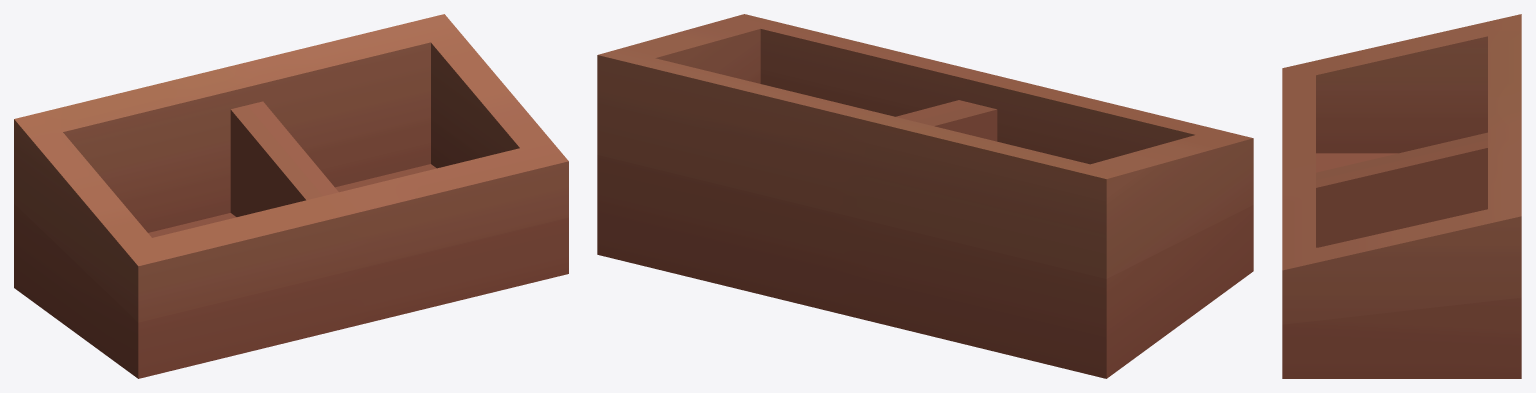
The model's file is kay-caixote-comprido-vazio.gltf.
3 renders of one model, left to right at view 1: azimuth 30°, elevation 25°; view 2: azimuth 150°, elevation 25°; view 3: azimuth 270°, elevation 25°, orthographic. The views are drawn at different scales.
Parts seen in each view (by area): view 1: crate_long_empty; view 2: crate_long_empty; view 3: crate_long_empty.
Part boxes in pixels (<box>): crate_long_empty: <box>14,14,568,378</box>; crate_long_empty: <box>597,14,1253,378</box>; crate_long_empty: <box>1282,14,1521,378</box>.
Bounding box in the file's own units: 2 × 0.7501 × 1.
1 material, 1 textured.
